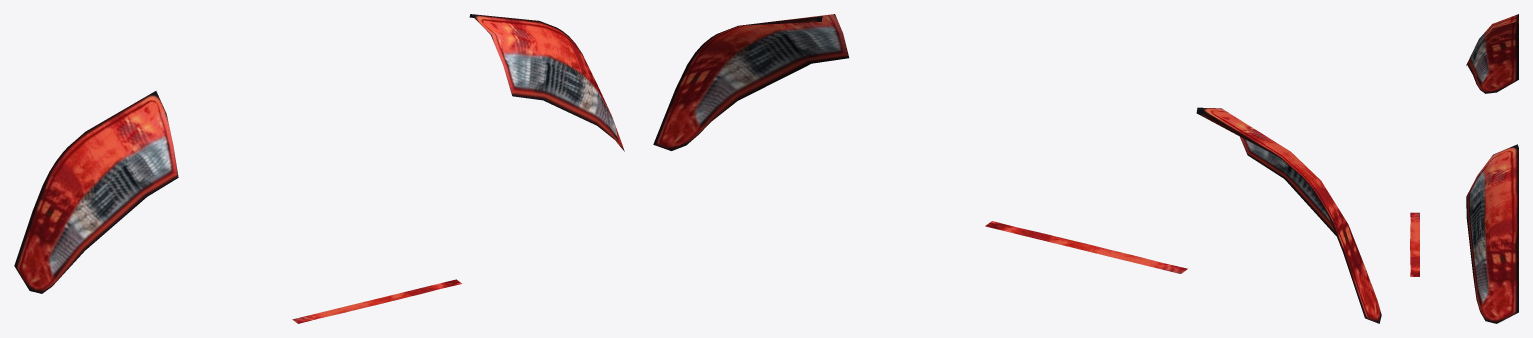
Rendered from brakes.obj.
3 views of the same model, side by side, from view 1: azimuth 30°, elevation 25°; view 2: azimuth 150°, elevation 25°; view 3: azimuth 270°, elevation 25° (orthographic). The views are drawn at different scales.
Visible parts, largest first — view 1: Mesh03_Shell_Material; view 2: Mesh03_Shell_Material; view 3: Mesh03_Shell_Material.
Boxes of the visible parts, x1,y1,x2,y2 form: Mesh03_Shell_Material: [14, 14, 624, 323]; Mesh03_Shell_Material: [653, 14, 1381, 323]; Mesh03_Shell_Material: [1410, 14, 1518, 323].
Size of the model in its own units: 3.25 by 1.06 by 0.6439.
Materials: 1 (1 with a texture image).
